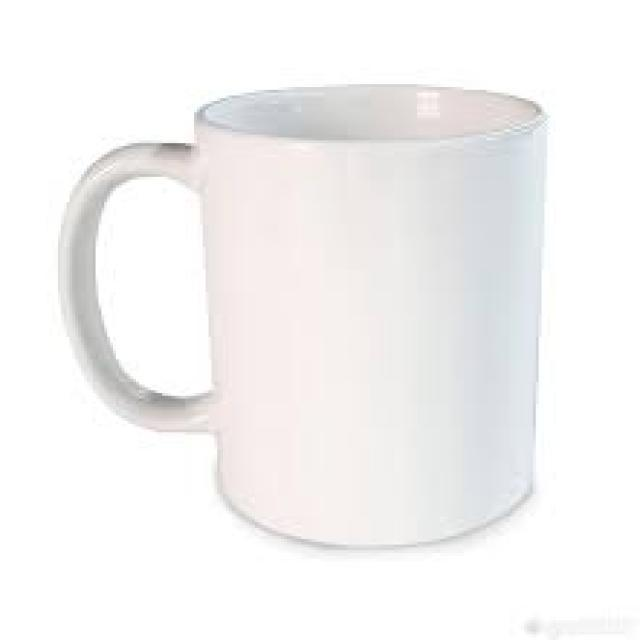Coffee Mug: (63, 86, 547, 550)
